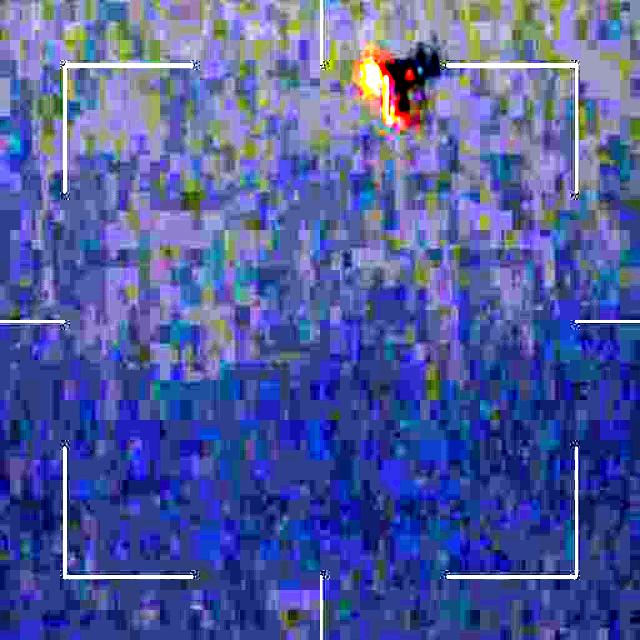bird: (359, 46, 439, 150)
